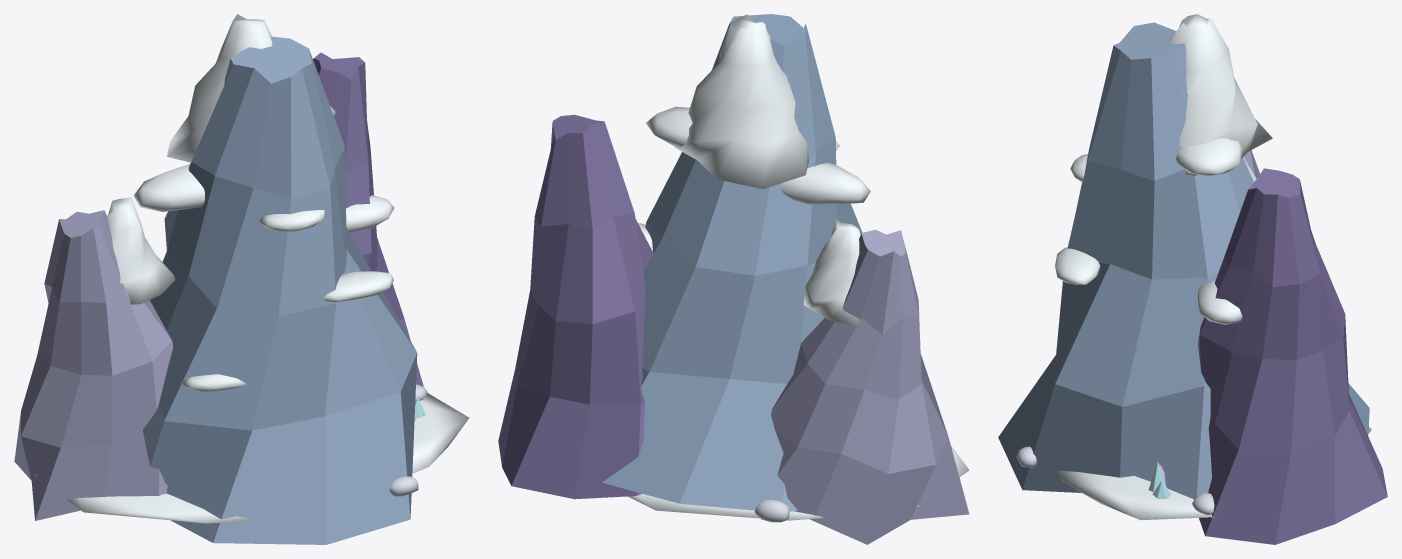
File: northern_peak_b.glb
3 views of the same model, side by side, from view 1: azimuth 30°, elevation 25°; view 2: azimuth 150°, elevation 25°; view 3: azimuth 270°, elevation 25° (orthographic). The views are drawn at different scales.
Parts seen in each view (by area): view 1: northern_peak_b.001; view 2: northern_peak_b.001; view 3: northern_peak_b.001.
Boxes of the visible parts, x1,y1,x2,y2 form: northern_peak_b.001: (14, 14, 469, 544); northern_peak_b.001: (498, 14, 969, 544); northern_peak_b.001: (998, 14, 1387, 544).
Bounding box in the file's own units: 14.2 × 14.39 × 11.64.
